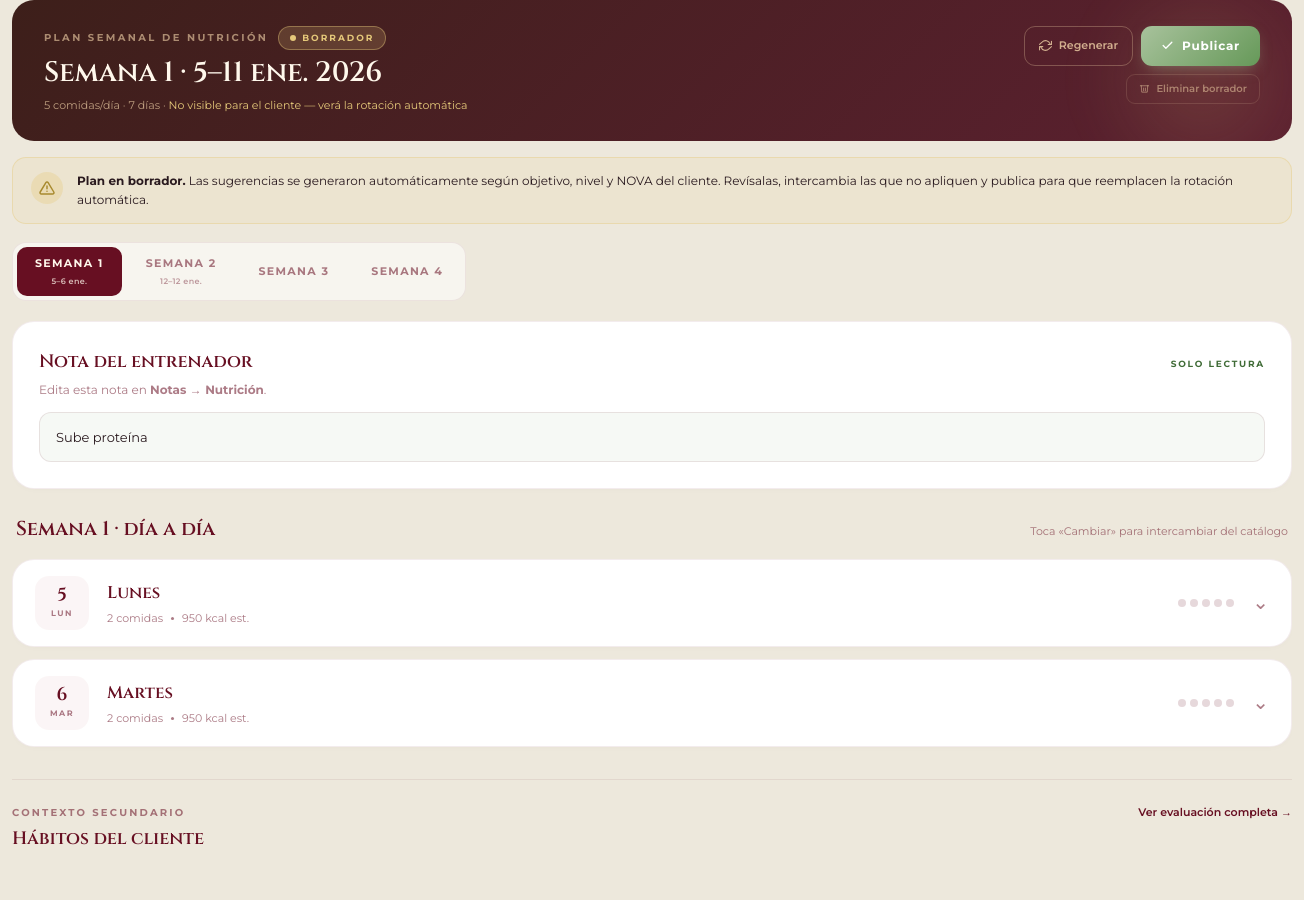
it: ClientNutritionTab › reveals meal rows when a day card is expanded
The width and height of the screenshot is (1304, 900).
Expected: the text "Borrador" is shown, [278,26,386,50]
Click the 1st text "2 comidas".
click(135, 619)  # box [107,610,163,628]
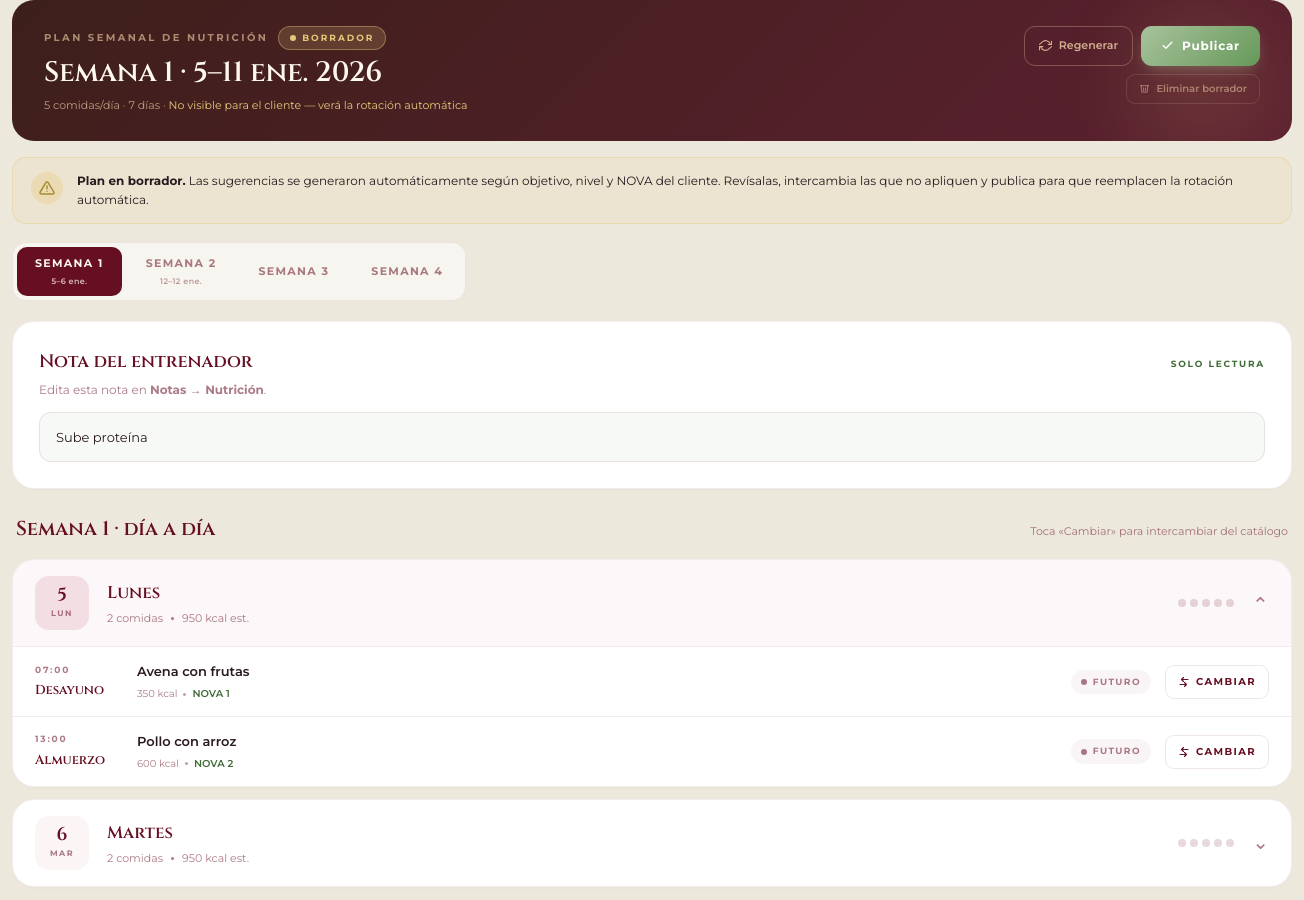
Now the text "Avena con frutas" is shown, box [137,663,250,679]
